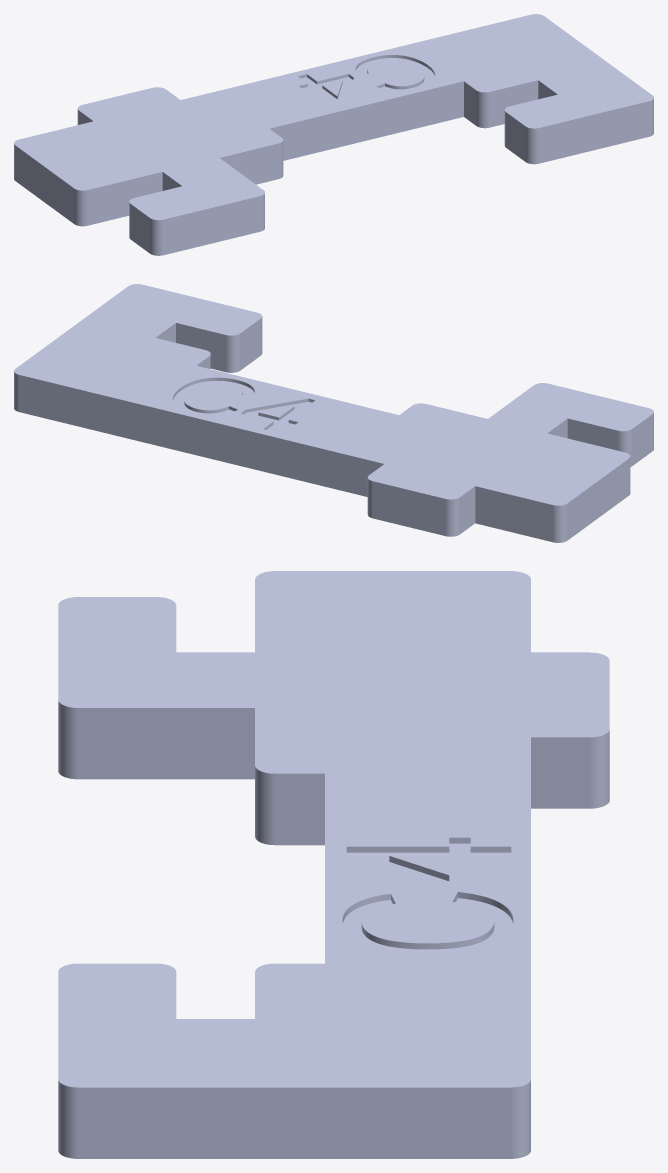
Rendered from ara-c4-rev1.glb.
3 renders of one model, top to bottom at view 1: azimuth 30°, elevation 25°; view 2: azimuth 150°, elevation 25°; view 3: azimuth 270°, elevation 25°, orthographic. The views are drawn at different scales.
Visible parts, largest first — view 1: ARA_C4_Rev1; view 2: ARA_C4_Rev1; view 3: ARA_C4_Rev1.
Part boxes in pixels (box(x1,y1,x2,y2)): ARA_C4_Rev1: box(14, 14, 653, 255); ARA_C4_Rev1: box(14, 284, 653, 542); ARA_C4_Rev1: box(58, 571, 609, 1158).
Size of the model in its own units: 0.0465 by 0.003 by 0.021.
